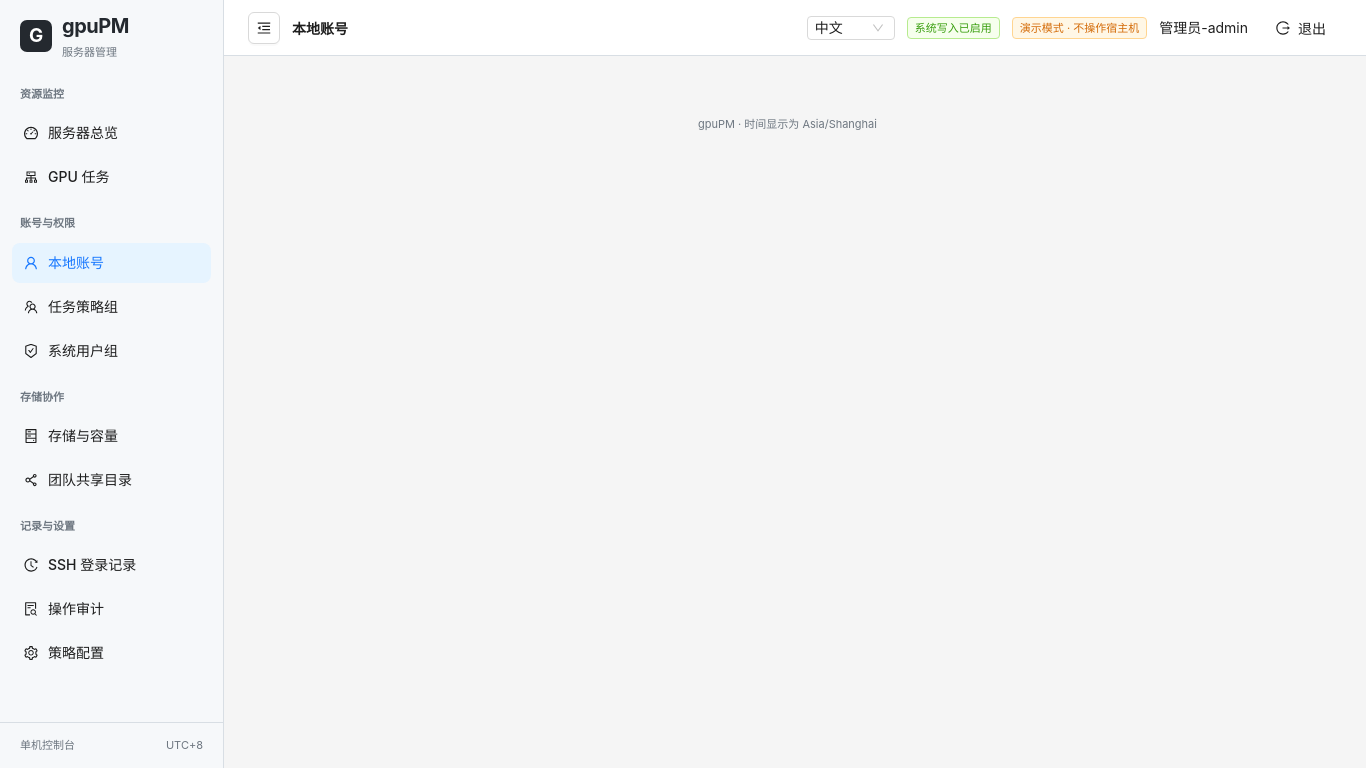
Test: authenticated navigation updates in place and preserves account identity
Expected: the text "管理员-admin" is shown, [1159,16,1248,38]
Expected: the menu item "本地账号" is shown, [12,243,211,283]
Click the dropdown named "语言 / Language".
click(829, 27)  # box [815,16,887,38]
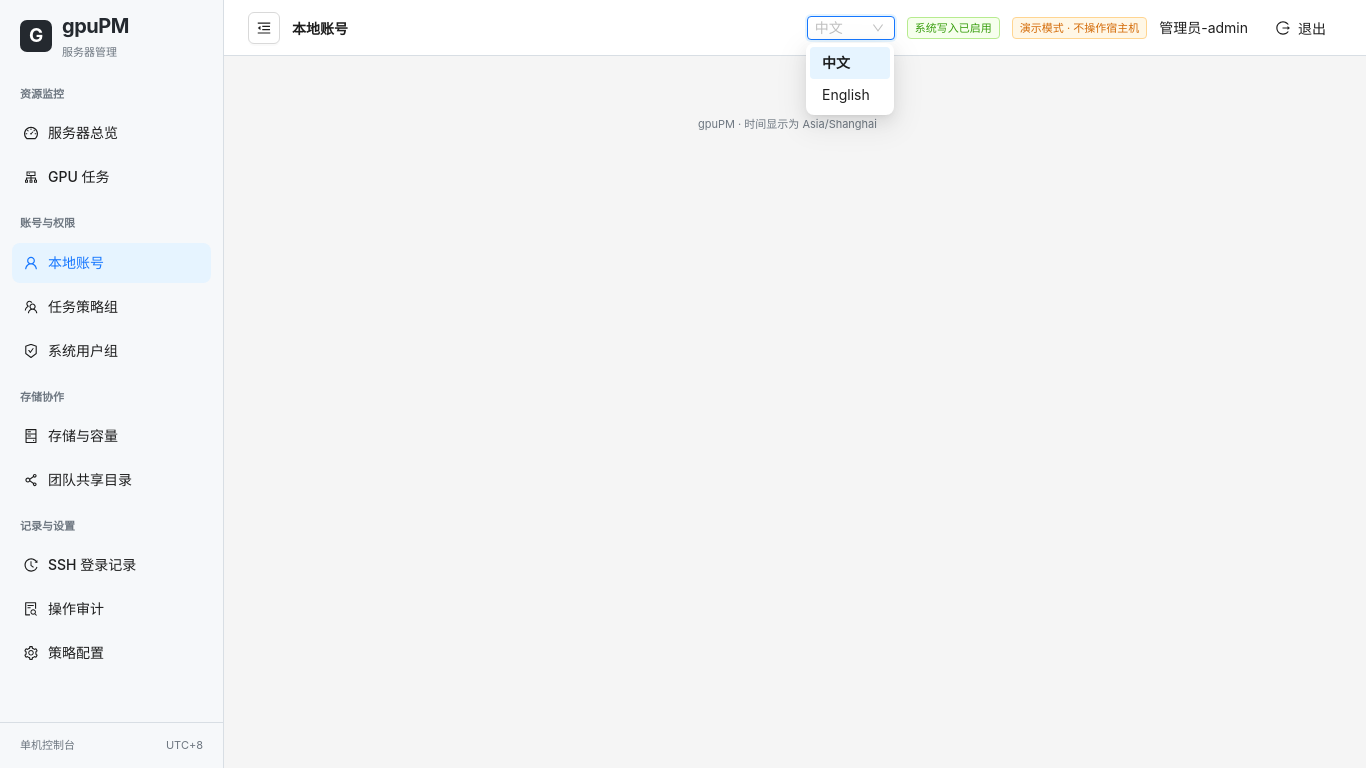
Click the text "English".
click(850, 95)  # box [822,84,878,106]
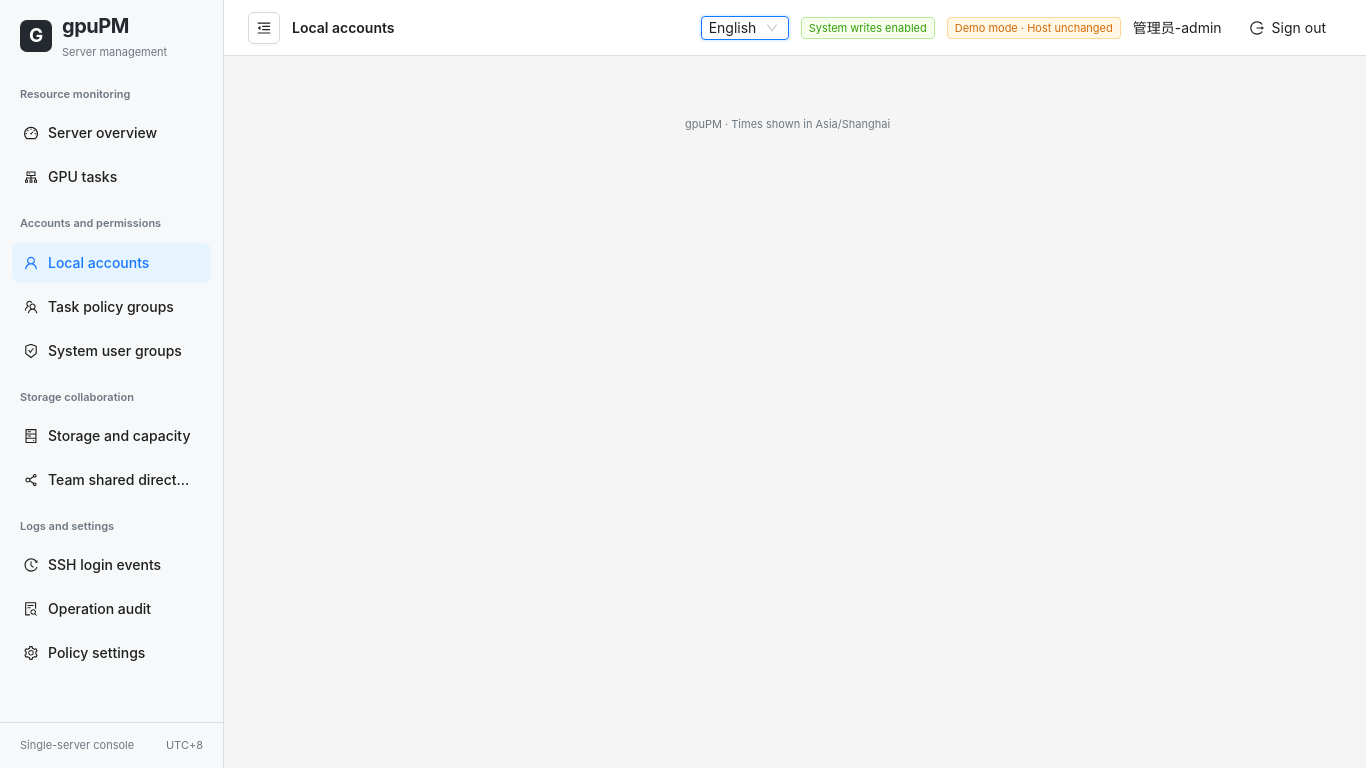
Expected: the text "Local accounts" is shown 2 times, [48,254,149,271]; [292,19,394,36]
Result: the navigation bar named "Main navigation" is shown at [0,72,223,722]
Result: the button "Sign out" is shown at [1234,12,1342,44]
